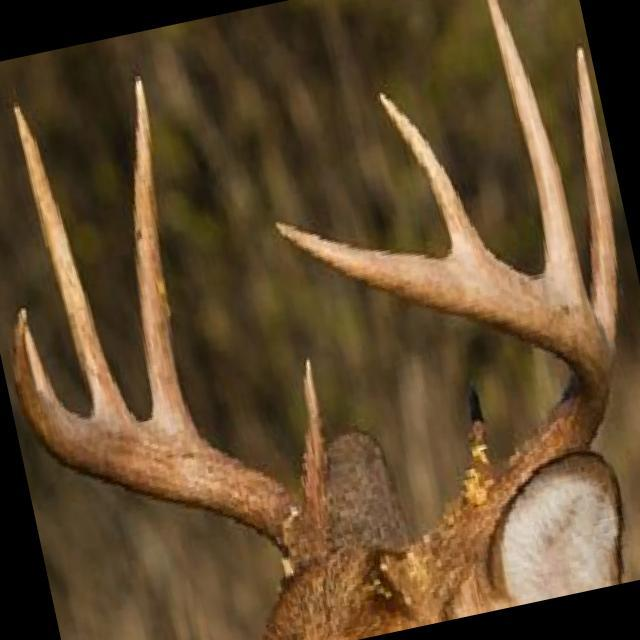L-F: (273, 218, 617, 627)
L-G1: (461, 387, 495, 480)
L-G2: (574, 39, 620, 357)
L-G3: (484, 0, 587, 292)
L-G4: (377, 90, 493, 254)
R-F: (11, 305, 302, 556)
R-G1: (296, 352, 332, 518)
R-G2: (129, 69, 200, 434)
R-G3: (10, 98, 135, 416)
